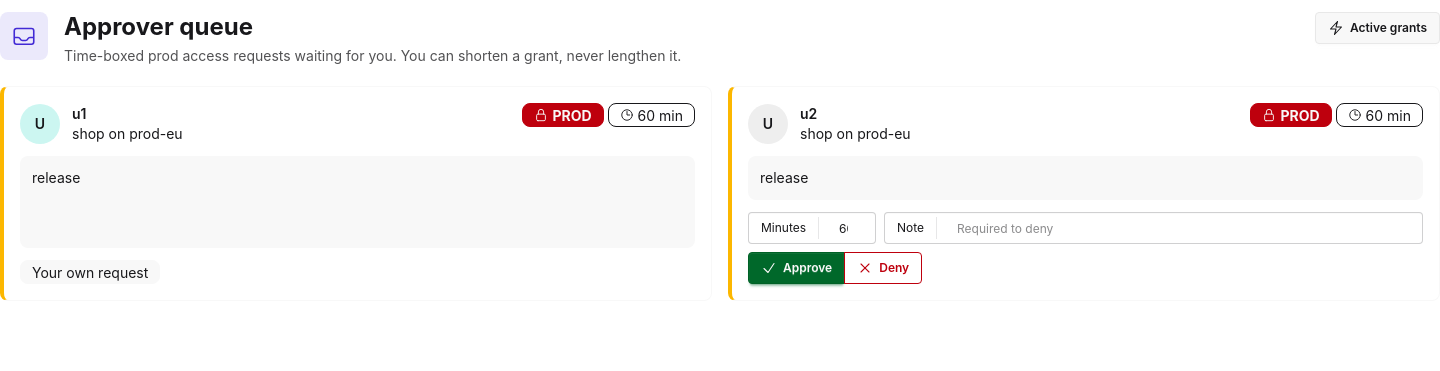
Test: GRT-020/025: approver queue shows requests live, hides own request decisions, removes decided rows
Later steps or results of the test are not shown.
Expected: the text "Your own request" is shown, [20,260,160,284]
Replace the text in the number field named "Minutes for agr_2" with "90" at (851, 228), box [839,213,863,243]
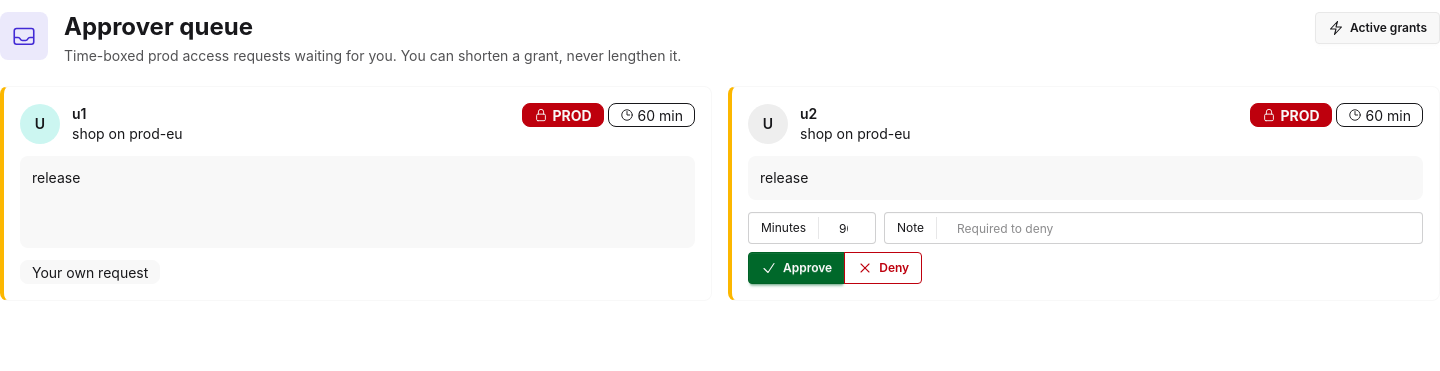
Click the button with aria-label "Approve agr_2" at (797, 268), box [748,252,845,284]
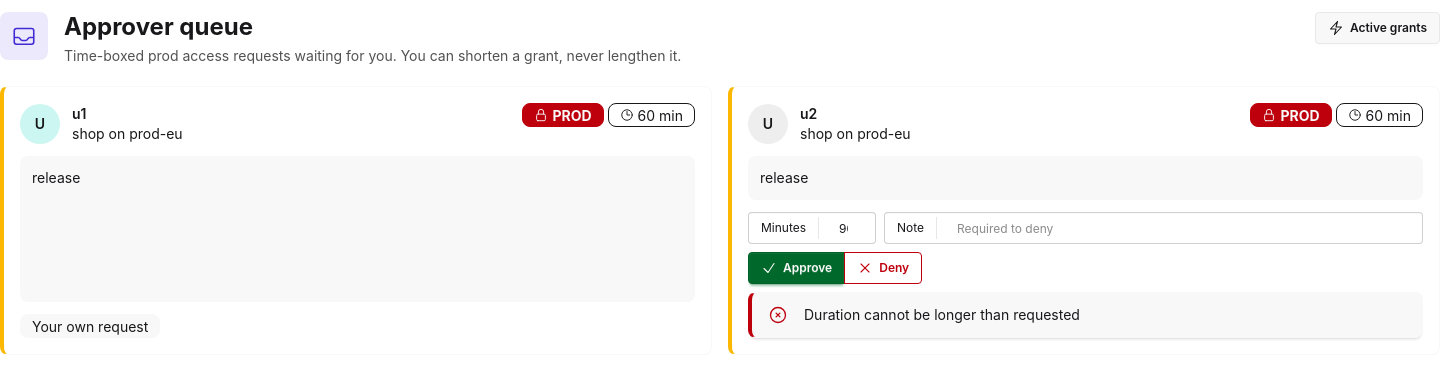
Expected: the message "Duration cannot be longer than requested" is shown, [748,292,1423,338]
